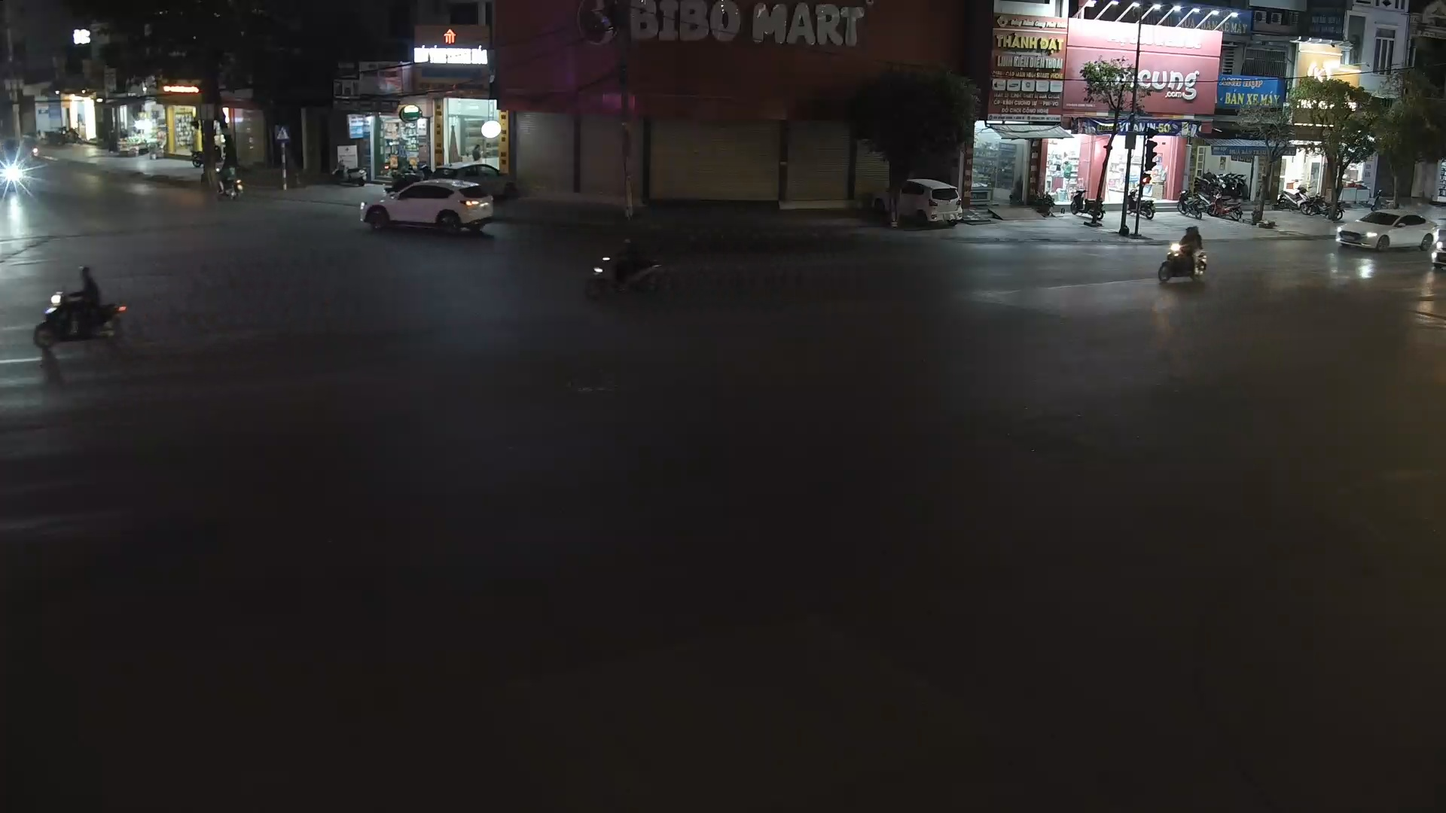car: (358, 169, 498, 237), (1335, 208, 1435, 254)
motorbike: (31, 261, 130, 351), (582, 226, 676, 307), (1156, 222, 1210, 288)
